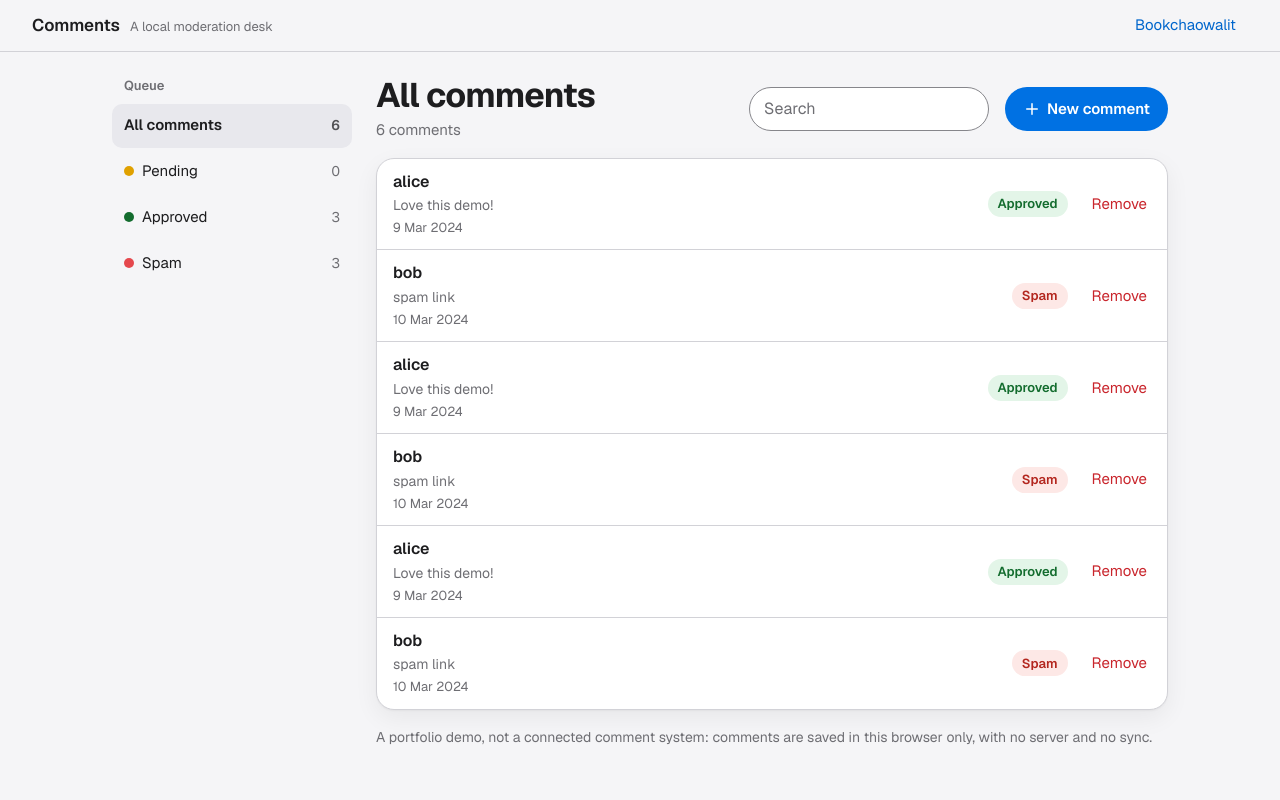
Scenario: batch Undo › Back to list goes to the next row with Undo kept, so a run of keyboard removals undoes as one
Later steps or results of the test are not shown.
What coordinates should you click on to do the following:
click the 2nd button with class "as-danger"
I would click on:
 (1119, 296)
Its box is [1080,274,1159,318].
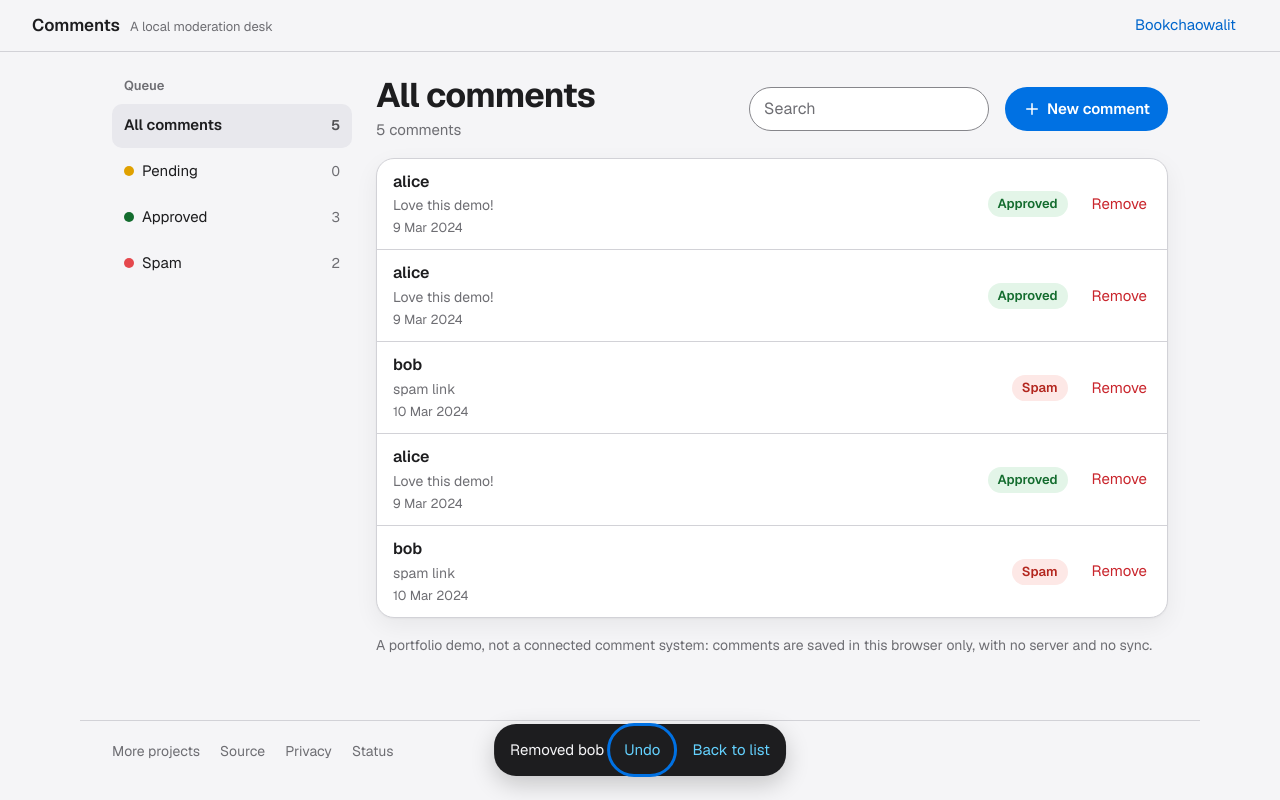
What coordinates should you click on to do the following:
click the button "Back to list"
I would click on:
 (731, 750)
Its box is [680,728,782,772].
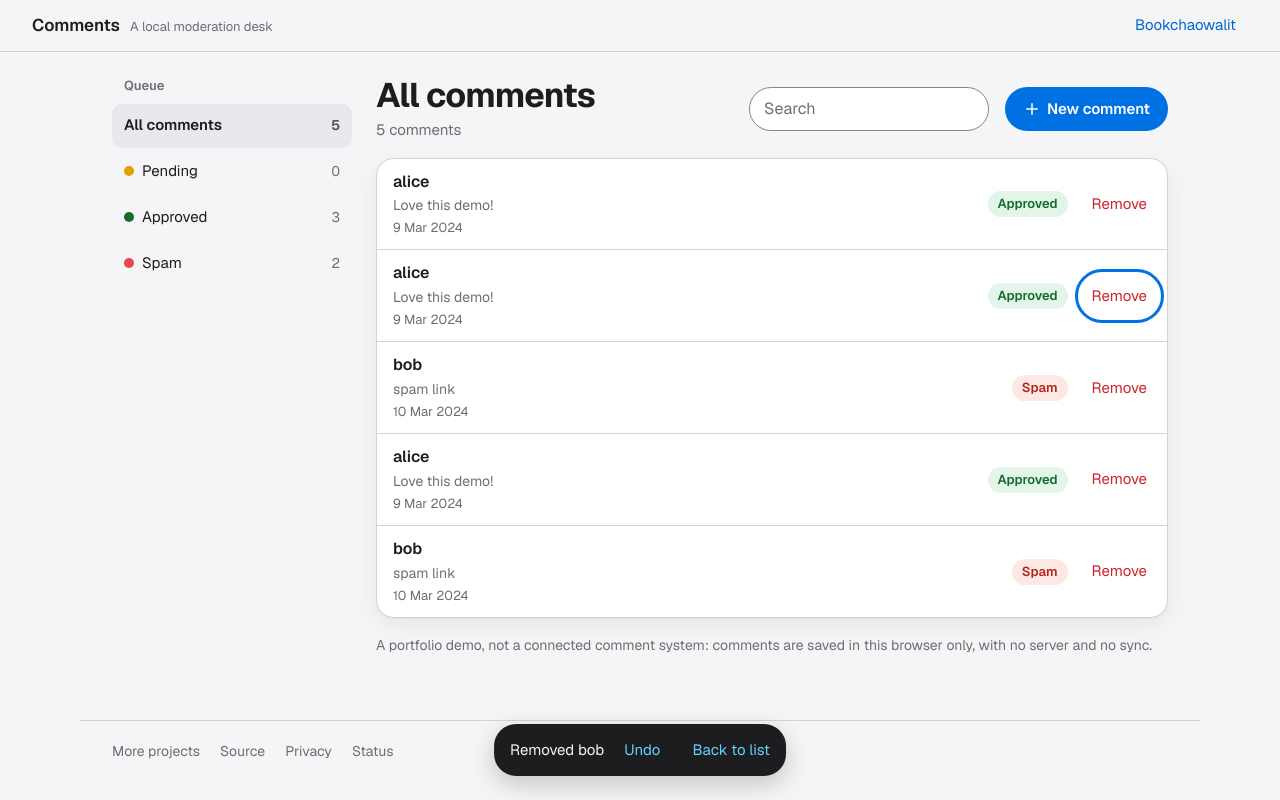
Result: the element with class "as-toast" is shown at [494,724,786,776]
What coordinates should you click on to do the following:
click the 2nd button with class "as-danger"
I would click on:
 (1119, 296)
Its box is [1080,274,1159,318].
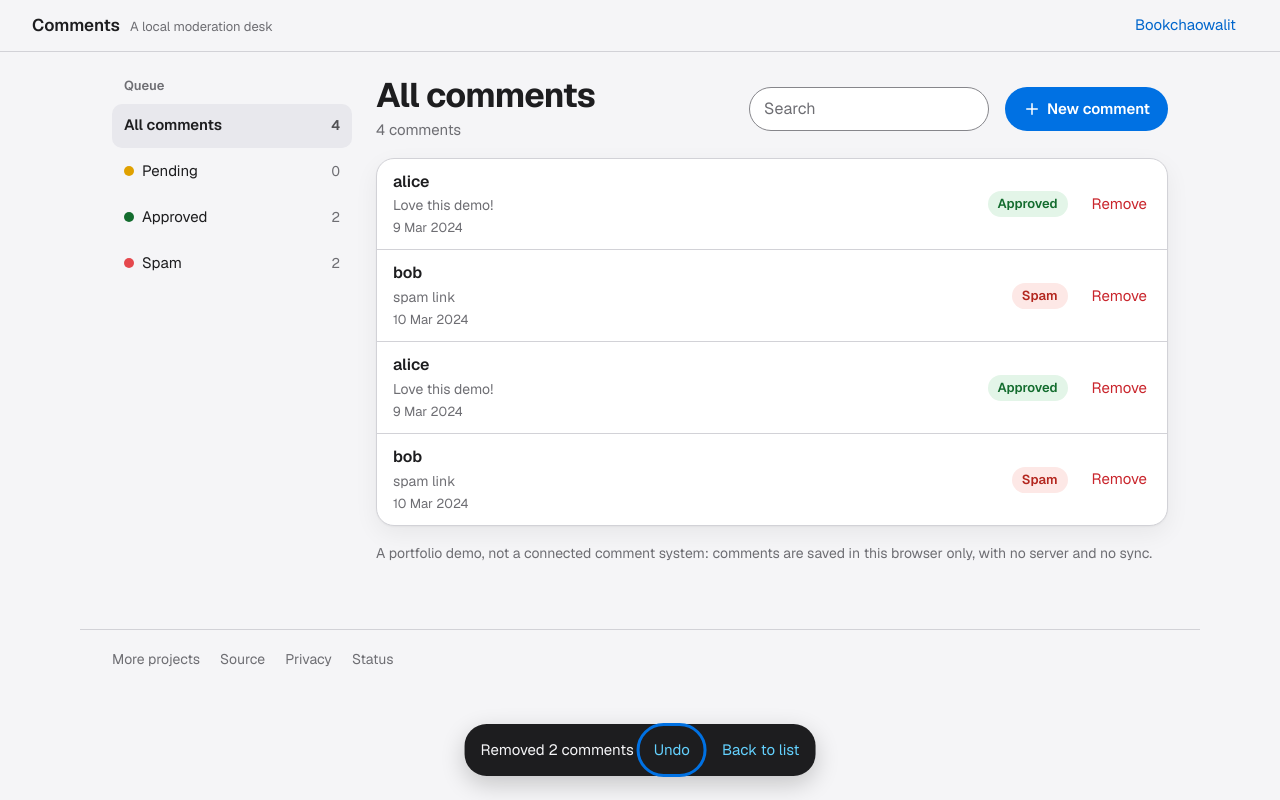
Result: the text "Removed 2 comments" is shown at [481,739,634,761]
